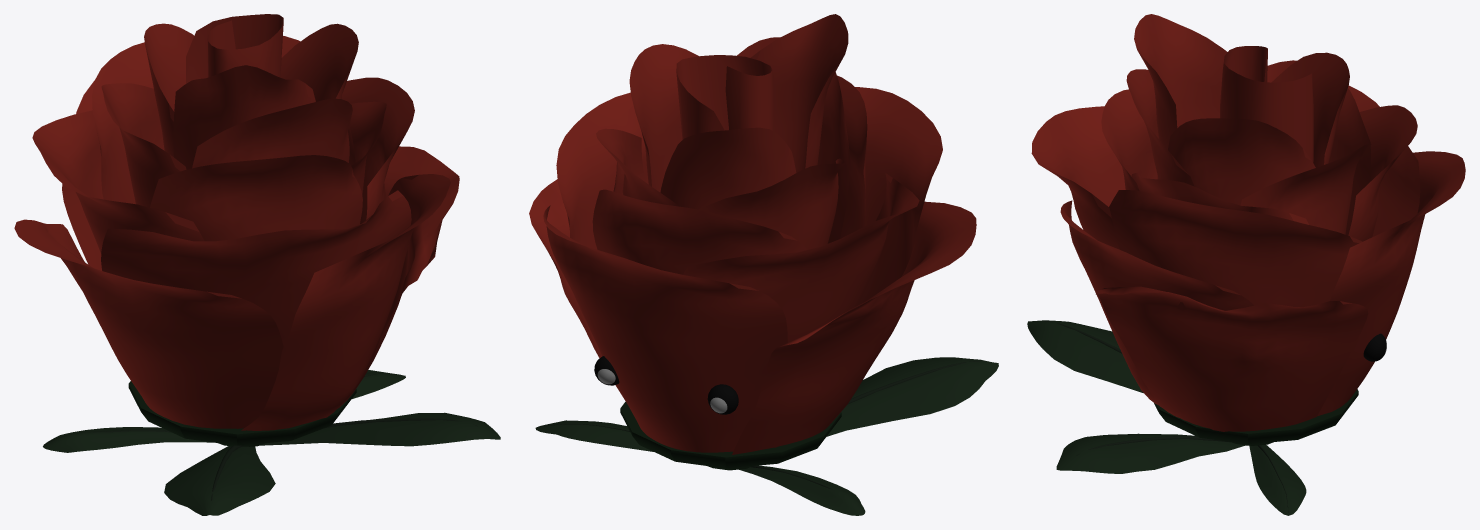
File: rose_head_2.obj
3 renders of one model, left to right at view 1: azimuth 30°, elevation 25°; view 2: azimuth 150°, elevation 25°; view 3: azimuth 270°, elevation 25°, orthographic. The views are drawn at different scales.
Parts seen in each view (by area): view 1: rose_head petalbasepetalbaseheadpetalspetal5, rose_head petalbasepetalbaseheadpetalspetal3, petalbasepetalbaseheadpetalspetal15 rose_head, rose_head petalbasepetalbaseheadpetalspetal8, rose_head petalbasepetalbaseheadpetalspetal9, rose_head petalbasepetalbaseheadpetalspetal11, rose_head petalbasepetalbaseheadpetalspetal7, rose_head petalbasepetalbaseheadpetalspetalcenter, rose_head petalbasepetalbaseheadpetalspetal13, rose_head petalbasepetalbasel_neckleaf2, rose_head petalbasepetalbaser_neckleaf2, rose_head petalbasepetalbaseheadpetalspetal1 (+10 smaller); view 2: rose_head petalbasepetalbasepetalfaceheadpetals, rose_head petalbasepetalbaseheadpetalspetal5, rose_head petalbasepetalbaseheadpetalspetal9, rose_head petalbasepetalbaseheadpetalspetal1, petalbasepetalbaseheadpetalspetal15 rose_head, rose_head petalbasepetalbaseheadpetalspetal11, rose_head petalbasepetalbaseheadpetalspetal10, rose_head petalbasepetalbaseheadpetalspetalcenter, rose_head petalbasepetalbasel_neckleaf2, rose_head petalbasepetalbaseheadpetalspetal13, rose_head petalbasepetalbaseheadpetalspetal2, rose_head petalbasepetalbaseheadpetalspetal14 (+9 smaller); view 3: rose_head petalbasepetalbaseheadpetalspetal4, rose_head petalbasepetalbaseheadpetalspetal2, rose_head petalbasepetalbasepetalfaceheadpetals, rose_head petalbasepetalbaseheadpetalspetal14, rose_head petalbasepetalbaseheadpetalspetal11, petalbasepetalbaseheadpetalspetal15 rose_head, rose_head petalbasepetalbaseheadpetalspetalcenter, rose_head petalbasepetalbaseheadpetalspetal3, rose_head petalbasepetalbaser_neckleaf2, rose_head petalbasepetalbaseheadpetalspetal12, rose_head petalbasepetalbasel_neckleaf2, rose_head petalbasepetalbaseheadpetalspetal1 (+8 smaller).
Part boxes in pixels (x1,y1,x2,y2): rose_head petalbasepetalbaseheadpetalspetal5: [14, 219, 283, 428]; rose_head petalbasepetalbaseheadpetalspetal3: [241, 174, 450, 430]; petalbasepetalbaseheadpetalspetal15 rose_head: [101, 190, 411, 346]; rose_head petalbasepetalbaseheadpetalspetal8: [150, 155, 362, 241]; rose_head petalbasepetalbaseheadpetalspetal9: [32, 110, 204, 253]; rose_head petalbasepetalbaseheadpetalspetal11: [173, 65, 315, 169]; rose_head petalbasepetalbaseheadpetalspetal7: [192, 98, 352, 168]; rose_head petalbasepetalbaseheadpetalspetalcenter: [186, 14, 283, 83]; rose_head petalbasepetalbaseheadpetalspetal13: [101, 83, 186, 207]; rose_head petalbasepetalbasel_neckleaf2: [164, 446, 275, 515]; rose_head petalbasepetalbaser_neckleaf2: [260, 412, 500, 446]; rose_head petalbasepetalbaseheadpetalspetal1: [92, 42, 153, 204]; rose_head petalbasepetalbasepetalfaceheadpetals: [543, 205, 787, 452]; rose_head petalbasepetalbaseheadpetalspetal5: [732, 201, 976, 454]; rose_head petalbasepetalbaseheadpetalspetal9: [683, 173, 919, 342]; rose_head petalbasepetalbaseheadpetalspetal1: [592, 189, 806, 274]; petalbasepetalbaseheadpetalspetal15 rose_head: [855, 87, 942, 305]; rose_head petalbasepetalbaseheadpetalspetal11: [750, 14, 848, 172]; rose_head petalbasepetalbaseheadpetalspetal10: [660, 127, 796, 209]; rose_head petalbasepetalbaseheadpetalspetalcenter: [676, 55, 773, 139]; rose_head petalbasepetalbasel_neckleaf2: [826, 357, 998, 436]; rose_head petalbasepetalbaseheadpetalspetal13: [699, 158, 845, 249]; rose_head petalbasepetalbaseheadpetalspetal2: [556, 92, 633, 249]; rose_head petalbasepetalbaseheadpetalspetal14: [629, 44, 698, 192]; rose_head petalbasepetalbaseheadpetalspetal4: [1096, 286, 1368, 431]; rose_head petalbasepetalbaseheadpetalspetal2: [1109, 190, 1362, 307]; rose_head petalbasepetalbasepetalfaceheadpetals: [1317, 151, 1465, 415]; rose_head petalbasepetalbaseheadpetalspetal14: [1168, 118, 1315, 205]; rose_head petalbasepetalbaseheadpetalspetal11: [1134, 14, 1227, 149]; petalbasepetalbaseheadpetalspetal15 rose_head: [1031, 106, 1125, 249]; rose_head petalbasepetalbaseheadpetalspetalcenter: [1220, 46, 1313, 162]; rose_head petalbasepetalbaseheadpetalspetal3: [1060, 200, 1253, 404]; rose_head petalbasepetalbaser_neckleaf2: [1056, 433, 1245, 473]; rose_head petalbasepetalbaseheadpetalspetal12: [1240, 144, 1371, 234]; rose_head petalbasepetalbasel_neckleaf2: [1027, 320, 1143, 393]; rose_head petalbasepetalbaseheadpetalspetal1: [1348, 105, 1417, 241].
Size of the model in its own units: 3.18 by 3.15 by 3.1.
